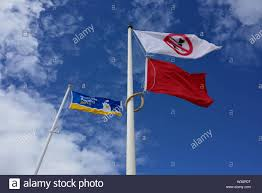Flag: (147, 56, 213, 107), (133, 29, 221, 58), (70, 91, 123, 118)
